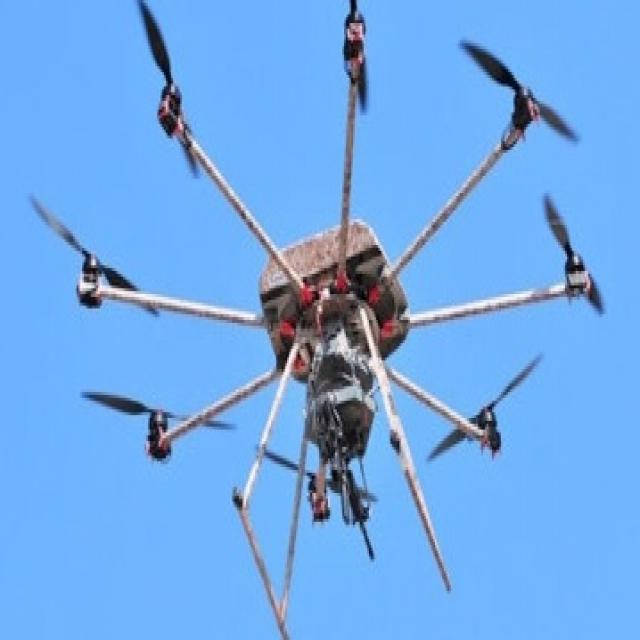drone: (0, 0, 620, 628)
